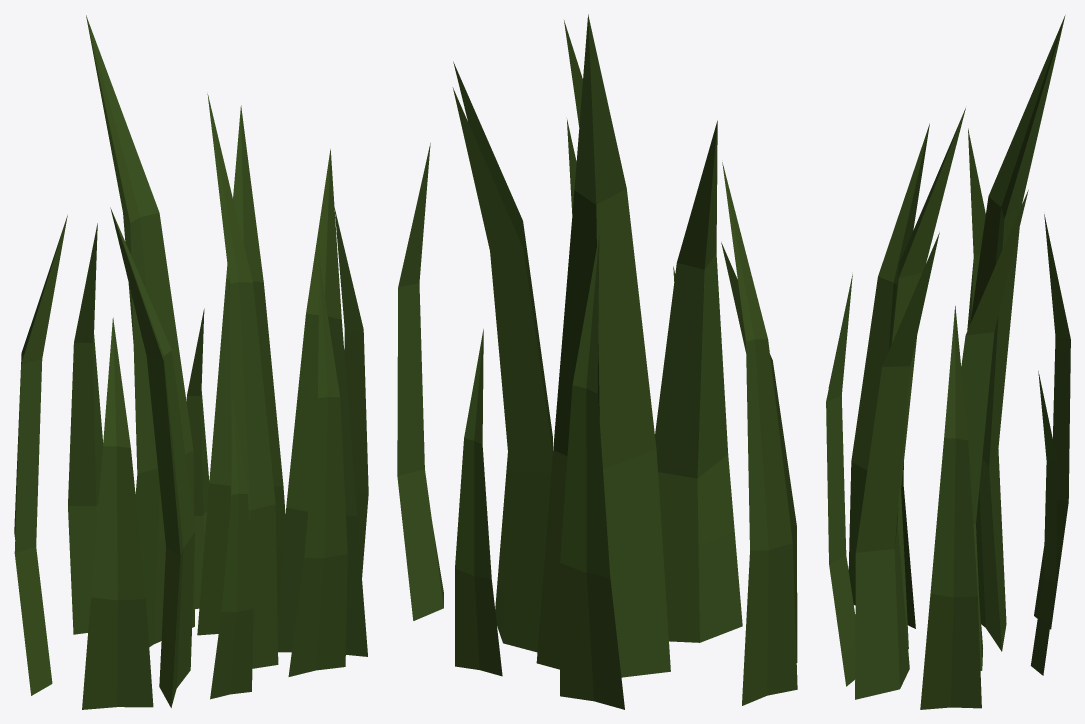
File: Grass_03.fbx
3 views of the same model, side by side, from view 1: azimuth 30°, elevation 25°; view 2: azimuth 150°, elevation 25°; view 3: azimuth 270°, elevation 25° (orthographic). The views are drawn at different scales.
Parts seen in each view (by area): view 1: Grass_03; view 2: Grass_03; view 3: Grass_03.
Boxes of the visible parts, x1,y1,x2,y2 form: Grass_03: (14, 15, 368, 709); Grass_03: (397, 14, 797, 709); Grass_03: (826, 15, 1070, 709).
Size of the model in its own units: 27.21 by 46.42 by 17.11.
